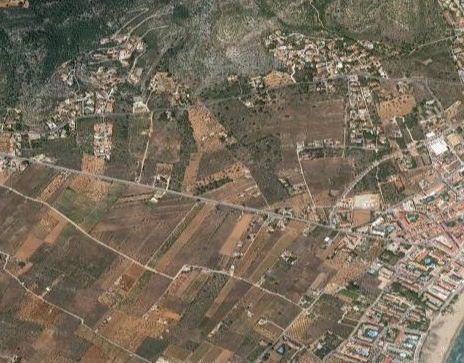motorway: (1, 65, 464, 139), (10, 153, 332, 233)
